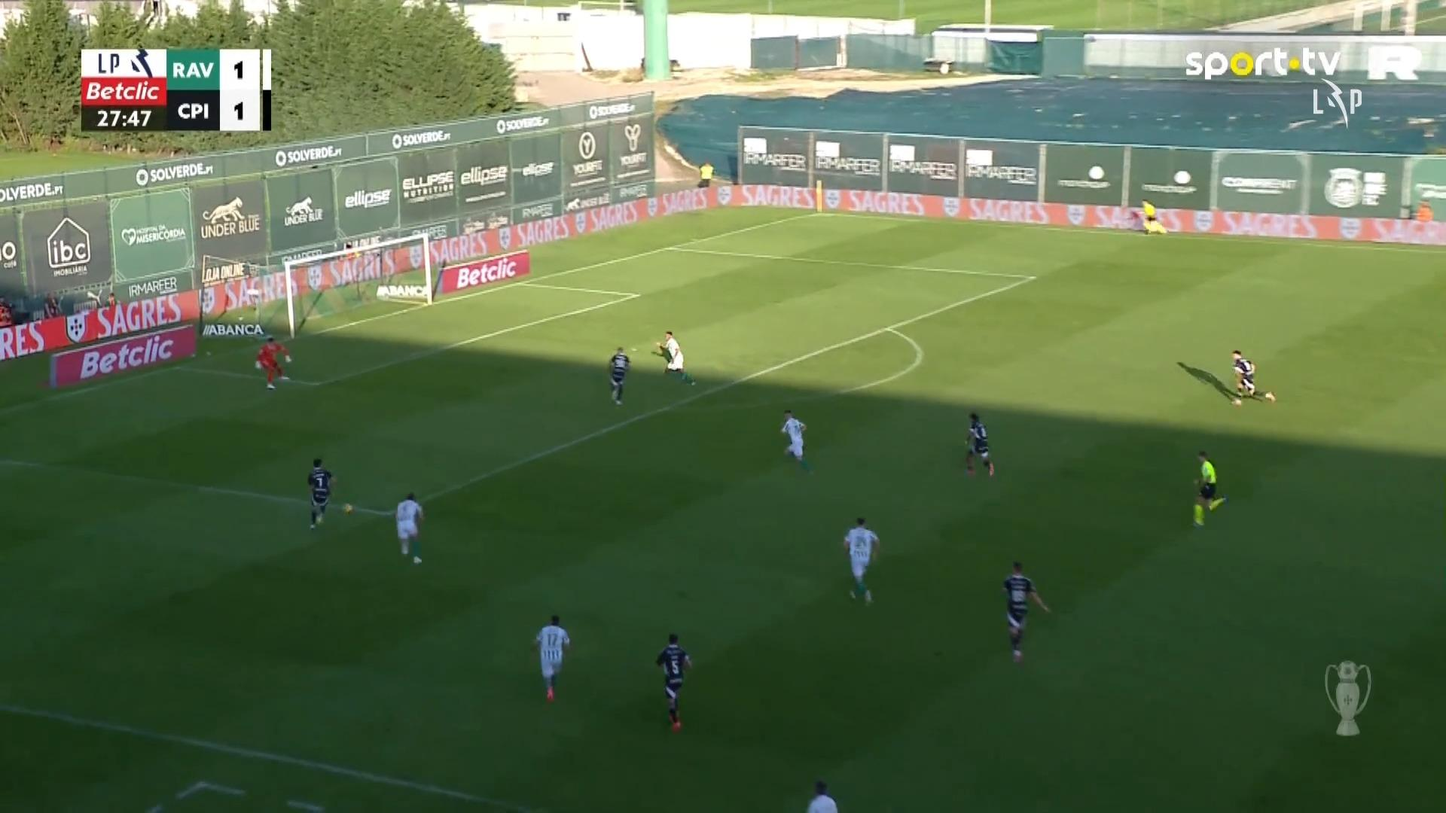ball: (343, 503, 352, 513)
goalkeeper: (254, 334, 291, 389)
player: (1002, 560, 1051, 662), (654, 632, 691, 731), (842, 516, 880, 604), (533, 614, 569, 702), (1191, 449, 1227, 527), (1231, 351, 1278, 407), (651, 330, 696, 385), (395, 491, 424, 564), (963, 411, 995, 477), (307, 457, 334, 529), (779, 410, 807, 461), (608, 346, 630, 405)
referee: (1139, 198, 1167, 234)
